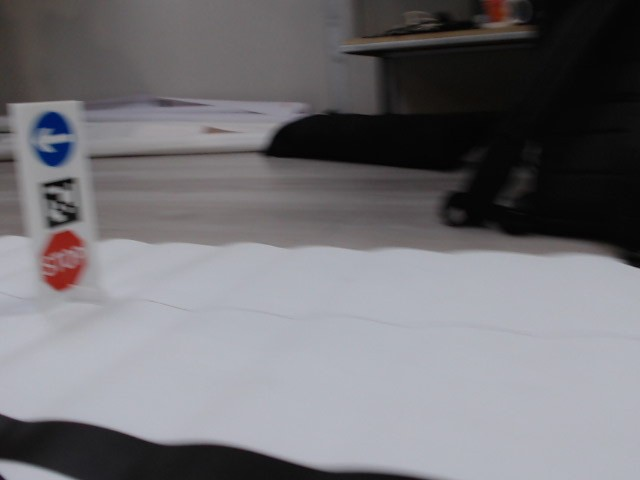Stop: (37, 230, 89, 290)
